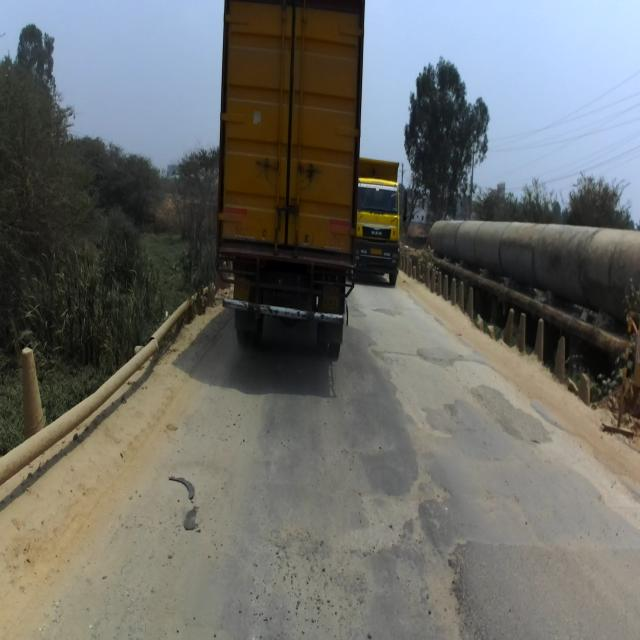truck ahead at: (218, 0, 366, 347), (360, 159, 403, 287)
